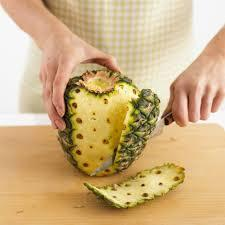Organic: (43, 49, 196, 210)
